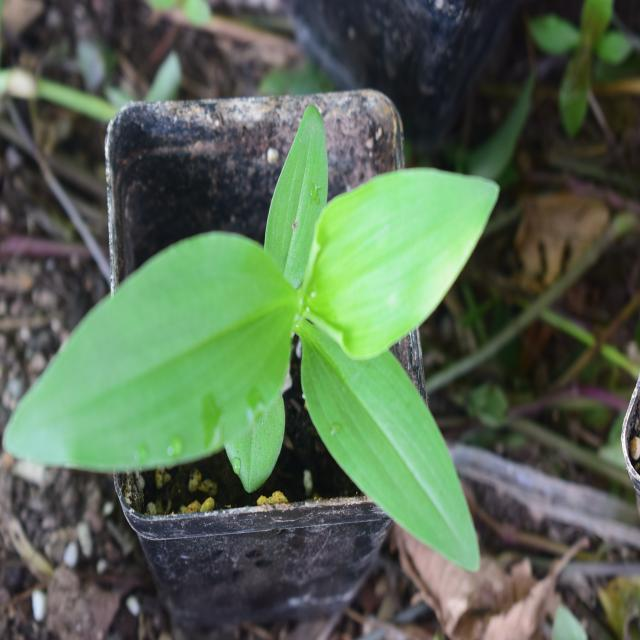Common Dayflower: (55, 154, 496, 561)
